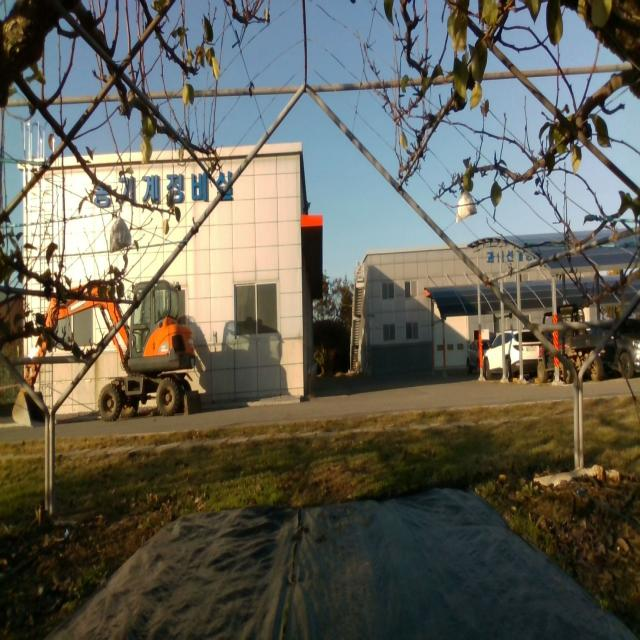pearbags: (110, 213, 132, 254), (456, 191, 476, 222)
